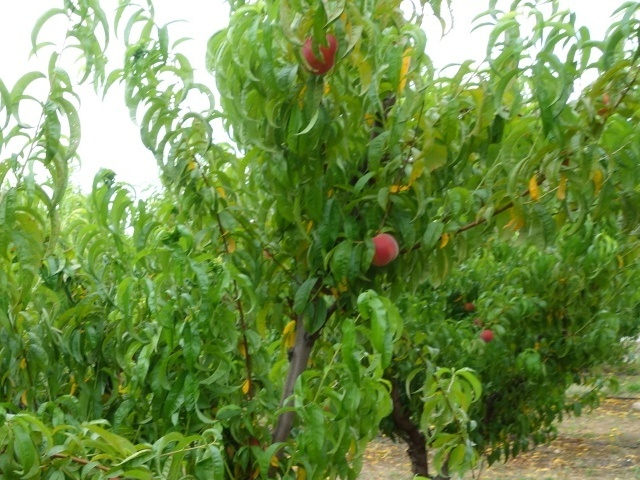peach: (295, 30, 344, 77), (363, 229, 403, 270), (476, 325, 497, 345)
